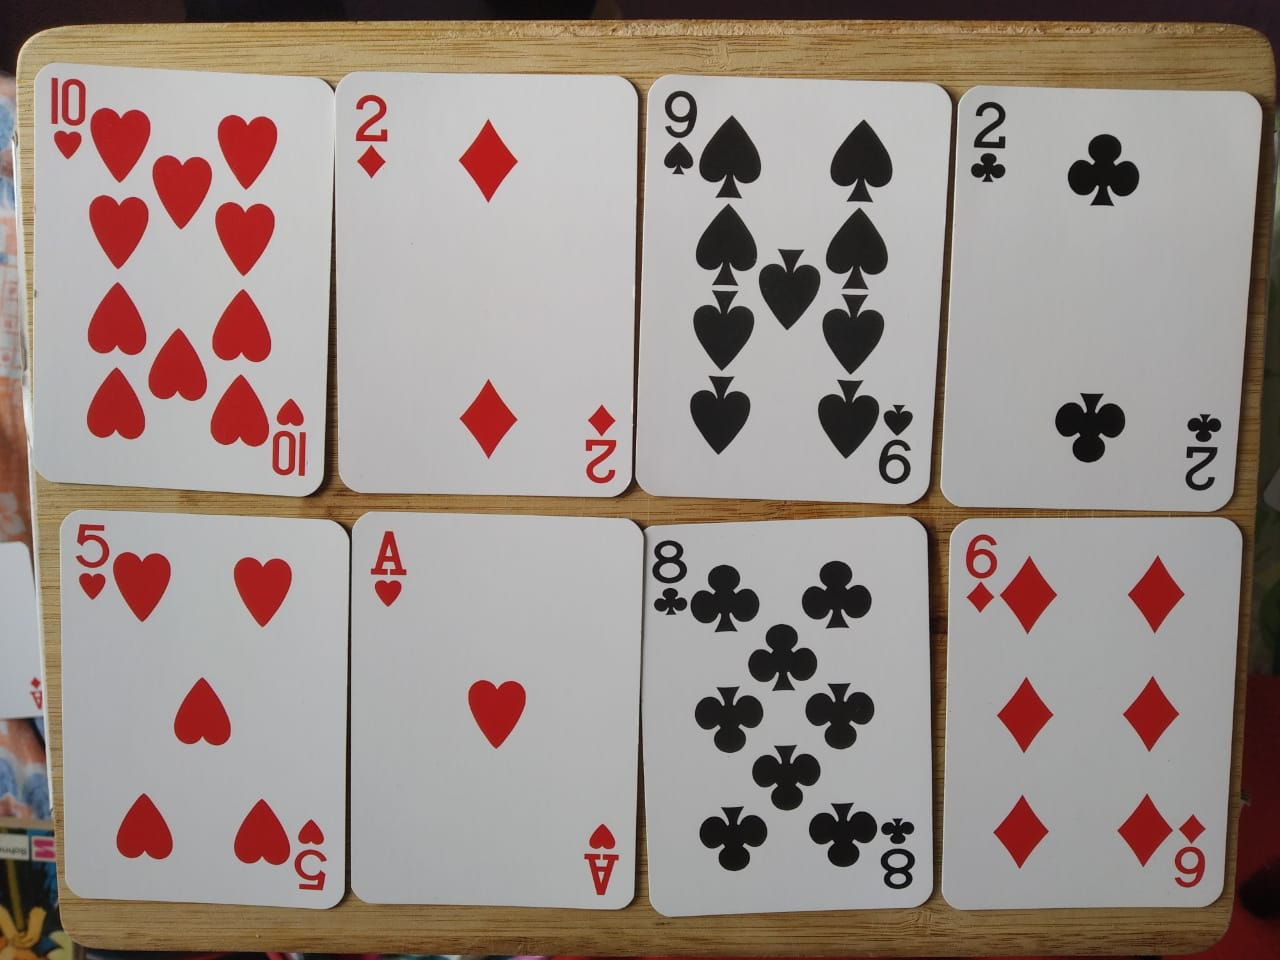ace: (342, 499, 645, 927)
eight: (638, 499, 941, 921)
five: (21, 490, 354, 922)
nine: (644, 58, 939, 509)
six: (936, 515, 1235, 924)
ten: (19, 59, 336, 496)
two: (936, 64, 1255, 514), (327, 55, 636, 499)
